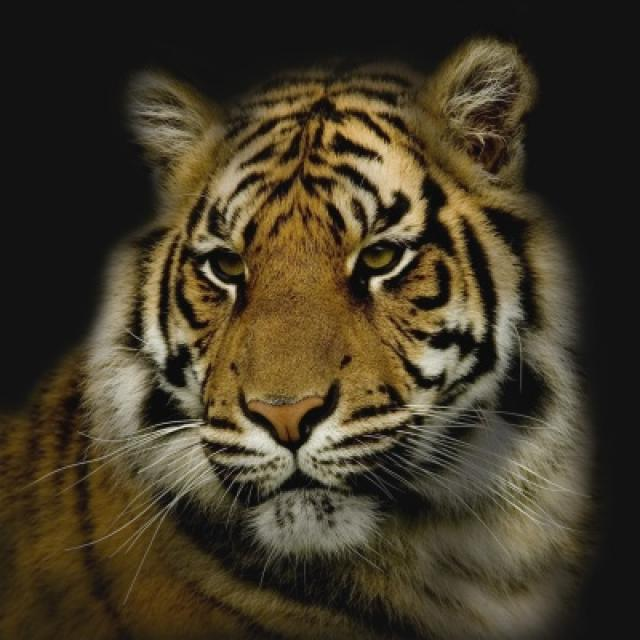Tiger: (0, 38, 590, 638)
